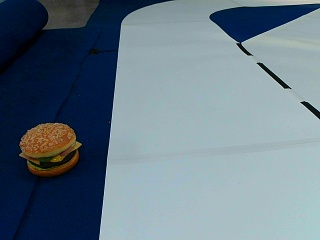burger: (18, 121, 80, 174)
